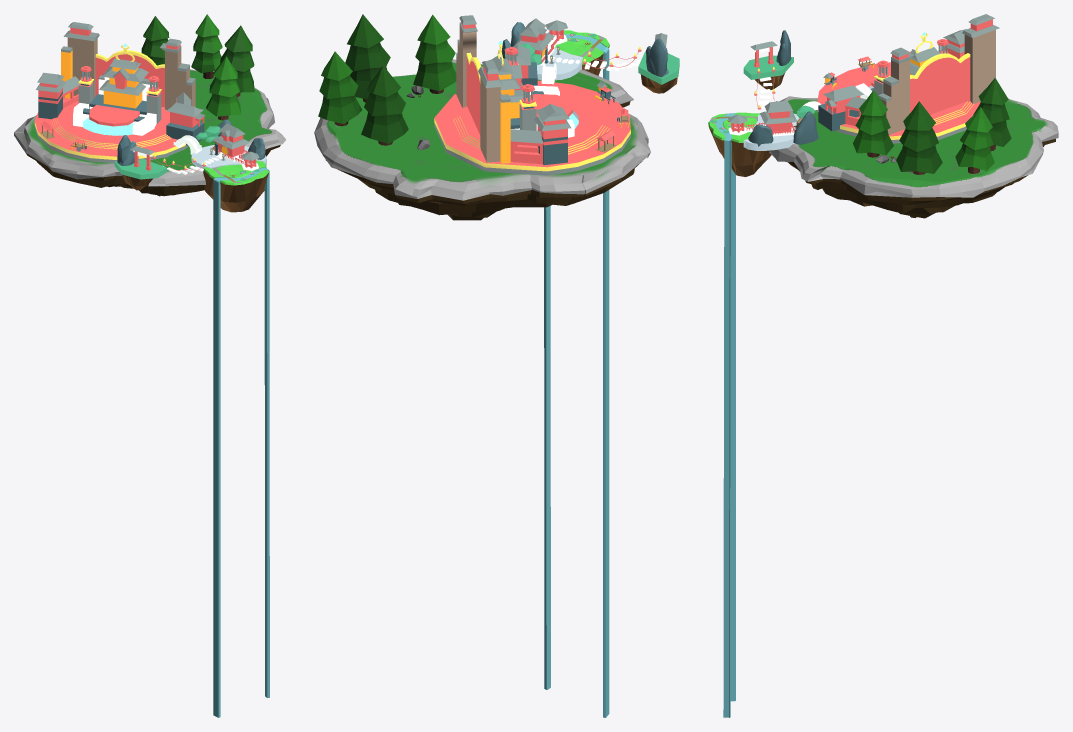
The model's file is art_island.glb.
3 renders of one model, left to right at view 1: azimuth 30°, elevation 25°; view 2: azimuth 150°, elevation 25°; view 3: azimuth 270°, elevation 25°, orthographic. The views are drawn at different scales.
Parts seen in each view (by area): view 1: mount3; view 2: mount3; view 3: mount3.
Part boxes in pixels (x1=…): mount3: x1=14, y1=14, x2=285, y2=717; mount3: x1=314, y1=14, x2=679, y2=717; mount3: x1=708, y1=14, x2=1058, y2=717.
Bounding box in the file's own units: 25.88 × 64.21 × 30.37.
25 materials, 2 textured.
